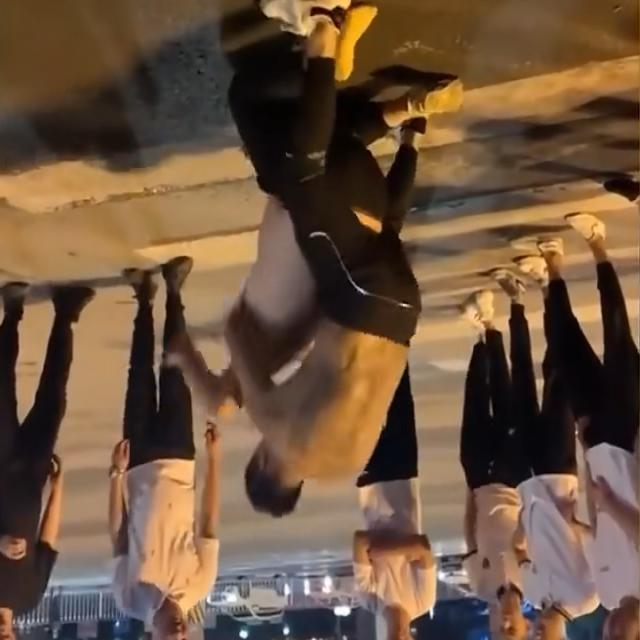fight: (192, 107, 399, 524)
nofight: (98, 255, 244, 640), (482, 261, 594, 636), (446, 296, 542, 640)
